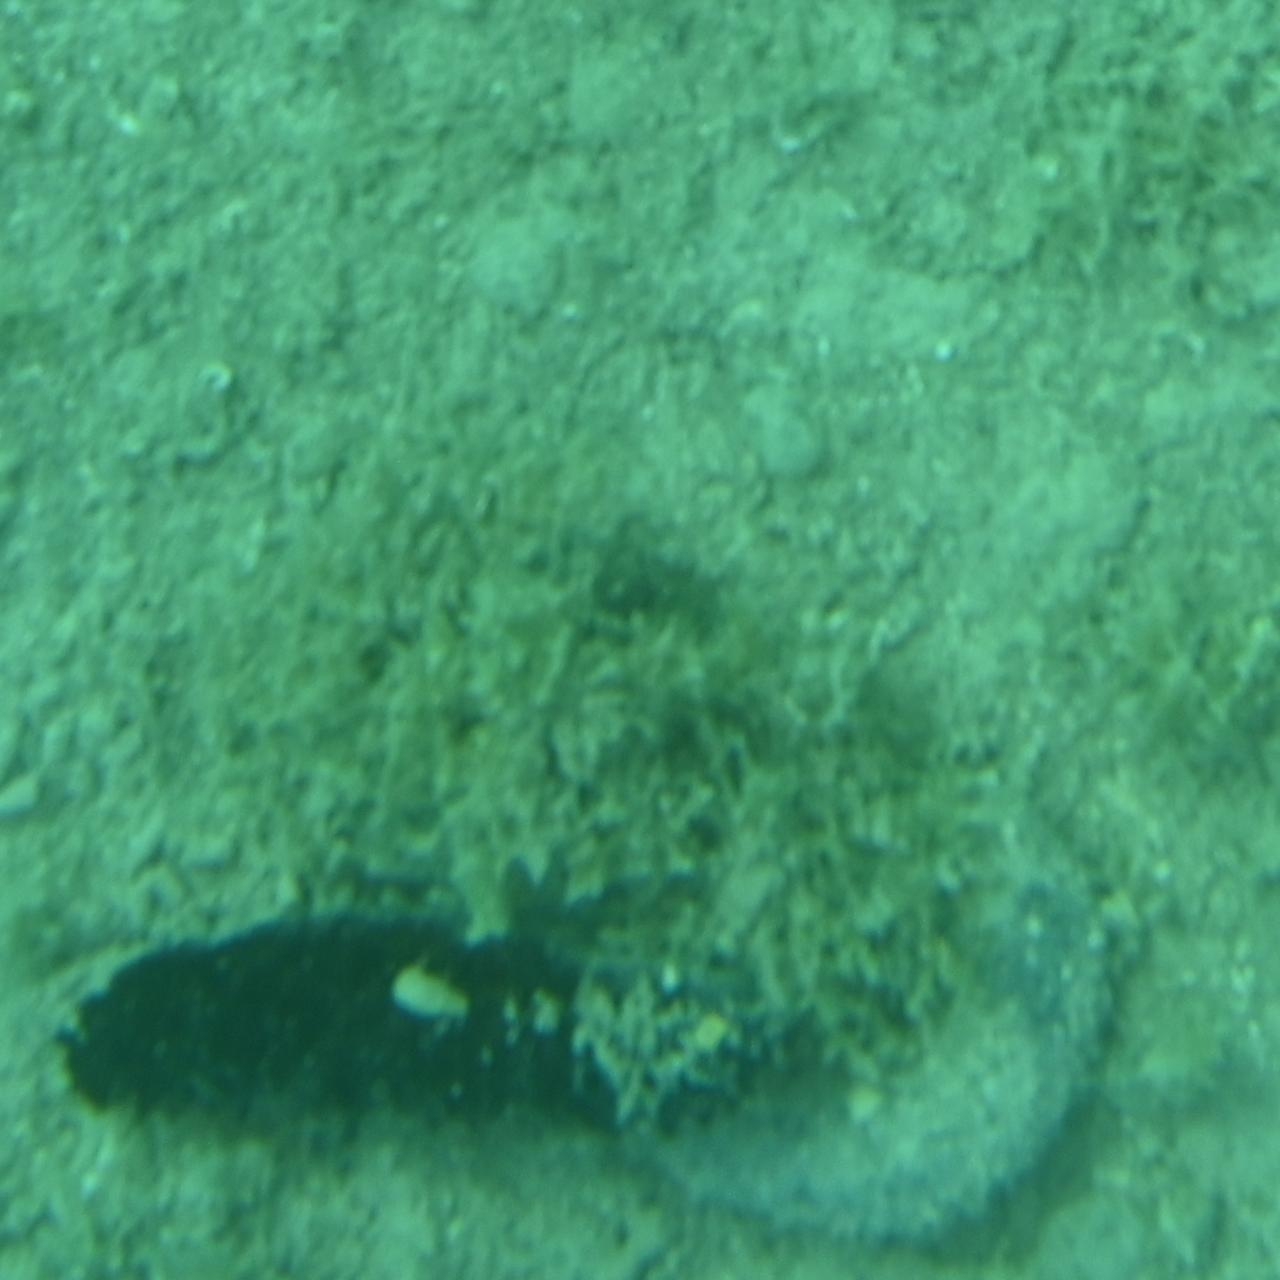Holothuria tubulosa: (595, 771, 1138, 1259), (47, 901, 779, 1149)
